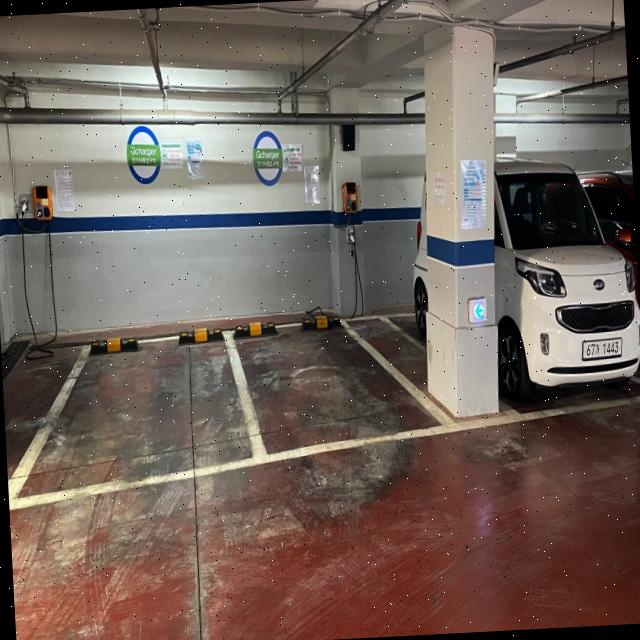empty: (9, 323, 269, 511), (225, 316, 462, 463)
occupied: (492, 146, 640, 405)
